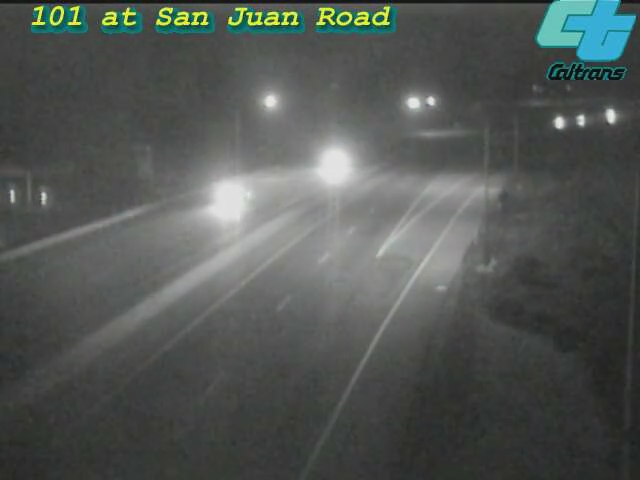vehicle: (191, 154, 271, 234), (285, 126, 365, 206), (587, 91, 637, 141), (557, 97, 607, 147), (534, 98, 584, 148)
